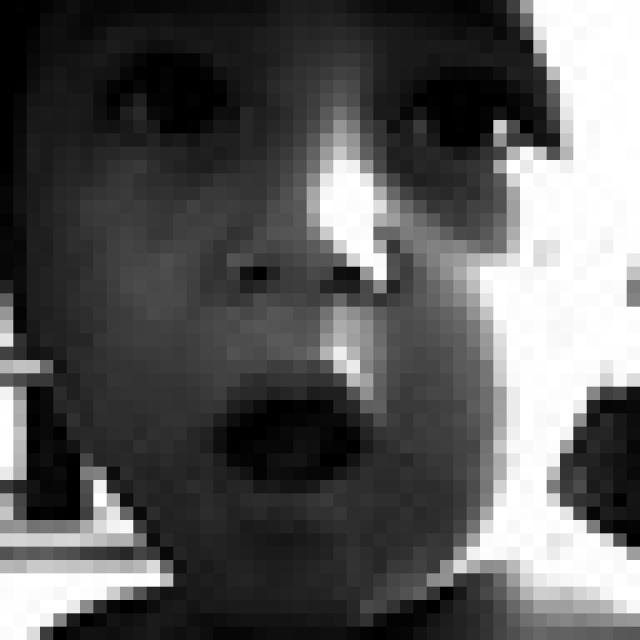surprise: (80, 0, 574, 552)
